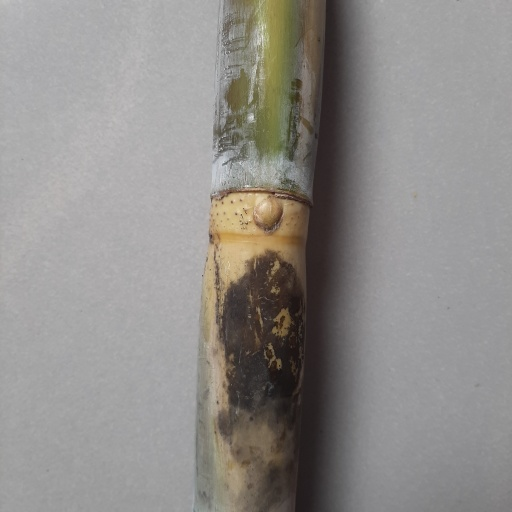Bud: (253, 195, 284, 234)
